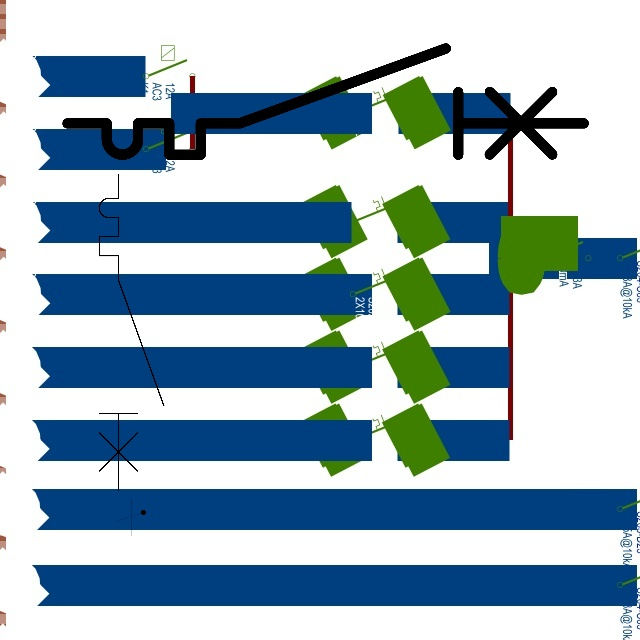interruptor_termomagnetico: (54, 35, 597, 168), (91, 166, 172, 498)
